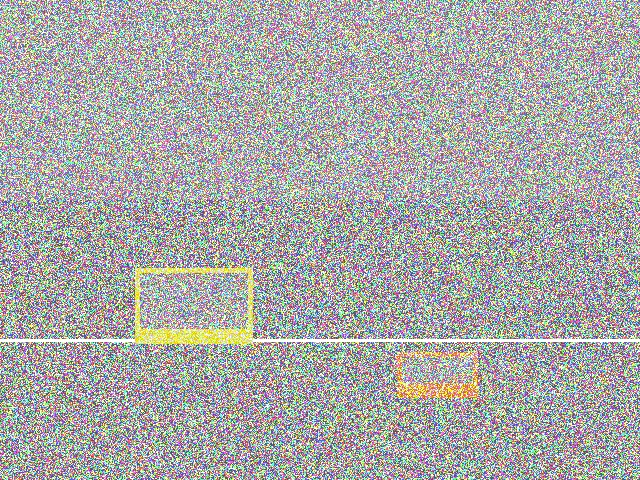truck: (341, 263, 449, 389), (7, 350, 184, 418), (188, 400, 307, 453)
